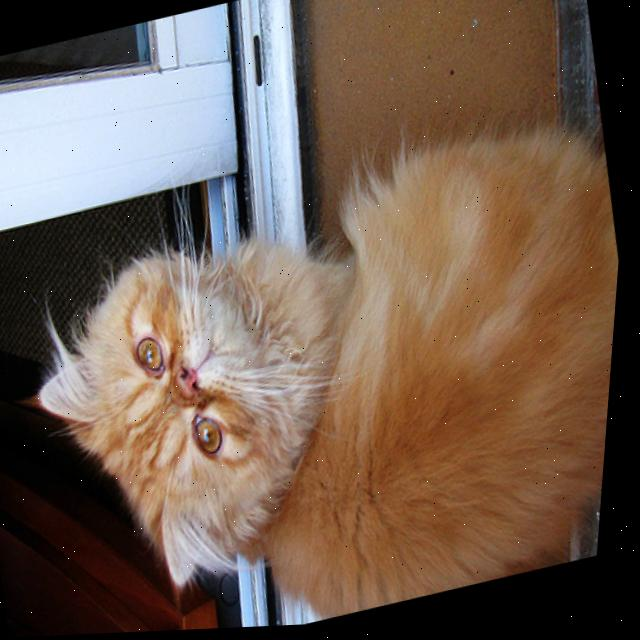Persian: (0, 87, 634, 639)
